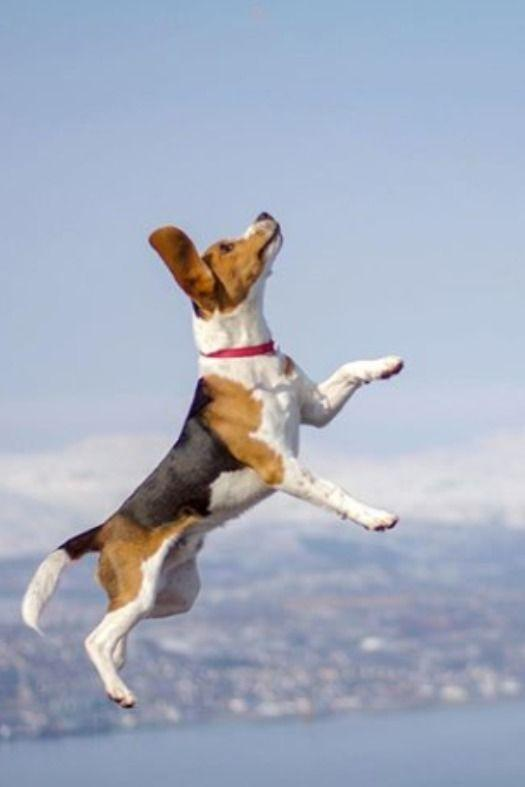adult_dog: (19, 211, 405, 710)
